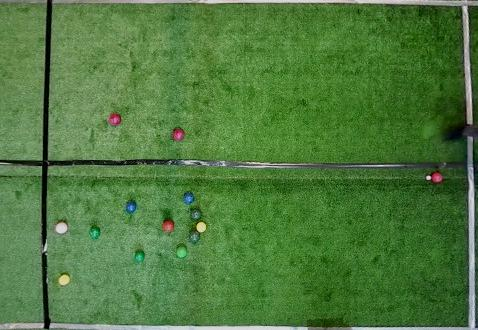blue: (183, 193, 194, 204), (126, 202, 136, 212)
green: (176, 246, 187, 258), (89, 227, 101, 238), (189, 231, 200, 242), (135, 251, 145, 262), (191, 209, 201, 219)
red: (55, 221, 68, 234), (163, 220, 174, 232), (431, 172, 443, 183), (109, 114, 121, 125), (173, 129, 184, 140)
vline: (1, 0, 53, 329), (464, 137, 477, 330), (461, 0, 477, 127)
white: (426, 175, 431, 180)
yellow: (196, 222, 207, 233), (59, 274, 70, 285)
